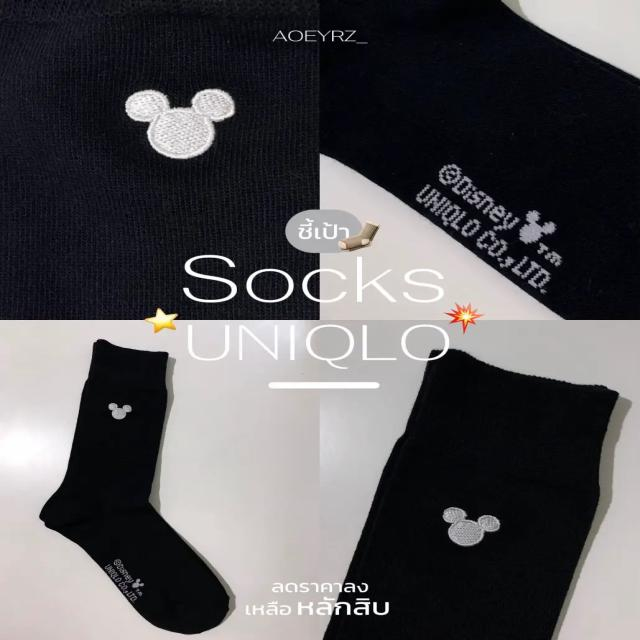sock: (321, 347, 620, 639), (38, 338, 235, 634)
